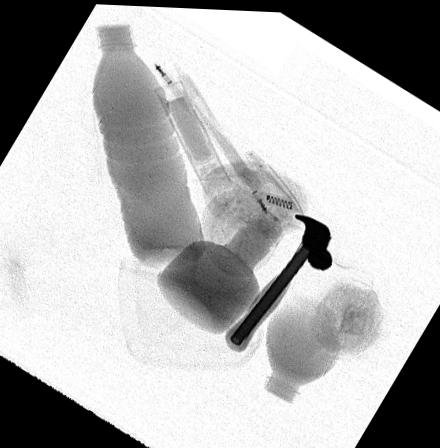Hammer: (223, 210, 332, 351)
